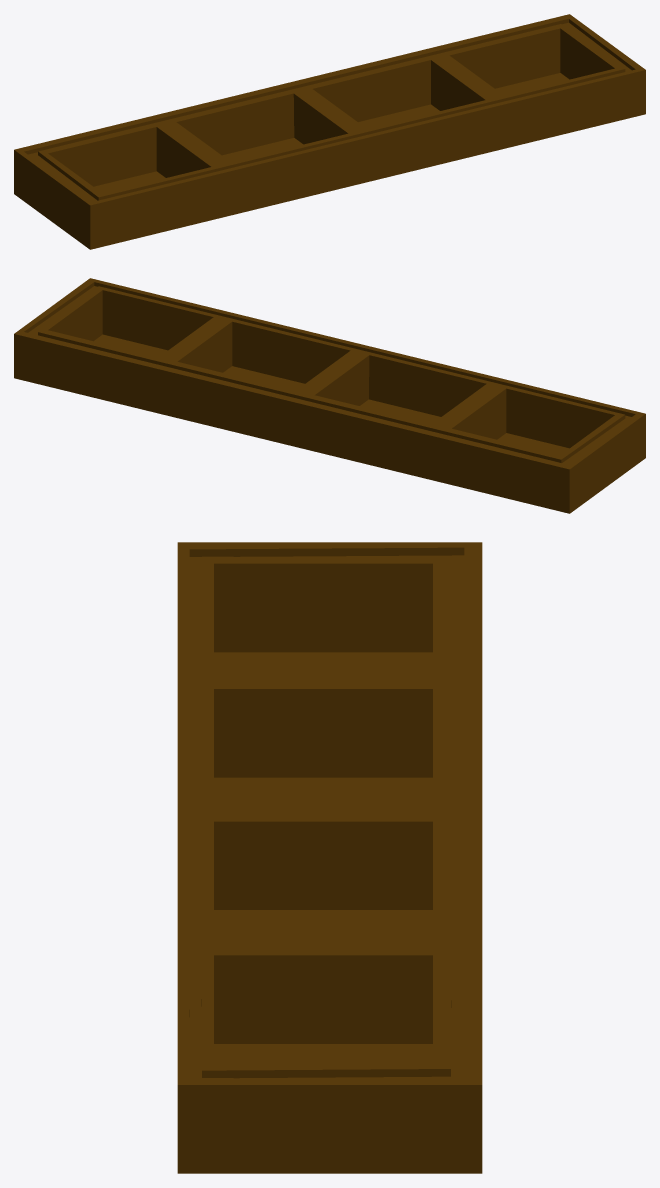
The model's file is UI_SM_Poker_Chip_Box_v3.fbx.
3 renders of one model, top to bottom at view 1: azimuth 30°, elevation 25°; view 2: azimuth 150°, elevation 25°; view 3: azimuth 270°, elevation 25°, orthographic. The views are drawn at different scales.
Visible parts, largest first — view 1: UI_SM_Poker_Chip_Box; view 2: UI_SM_Poker_Chip_Box; view 3: UI_SM_Poker_Chip_Box.
Part boxes in pixels (box(x1,y1,x2,y2)): UI_SM_Poker_Chip_Box: box(14, 14, 645, 249); UI_SM_Poker_Chip_Box: box(14, 278, 645, 513); UI_SM_Poker_Chip_Box: box(177, 542, 482, 1173).
Bounding box in the file's own units: 1008 × 239 × 76.89.
